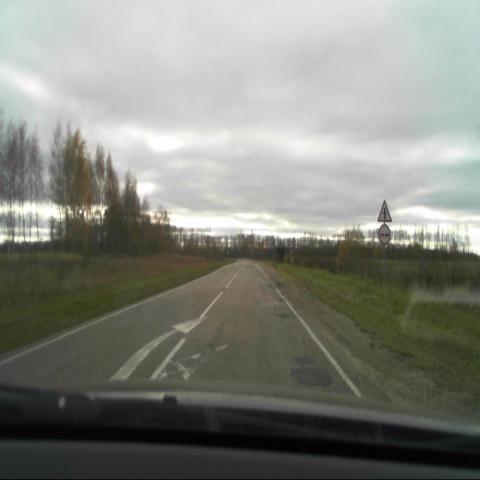2_3: (376, 199, 392, 222)
